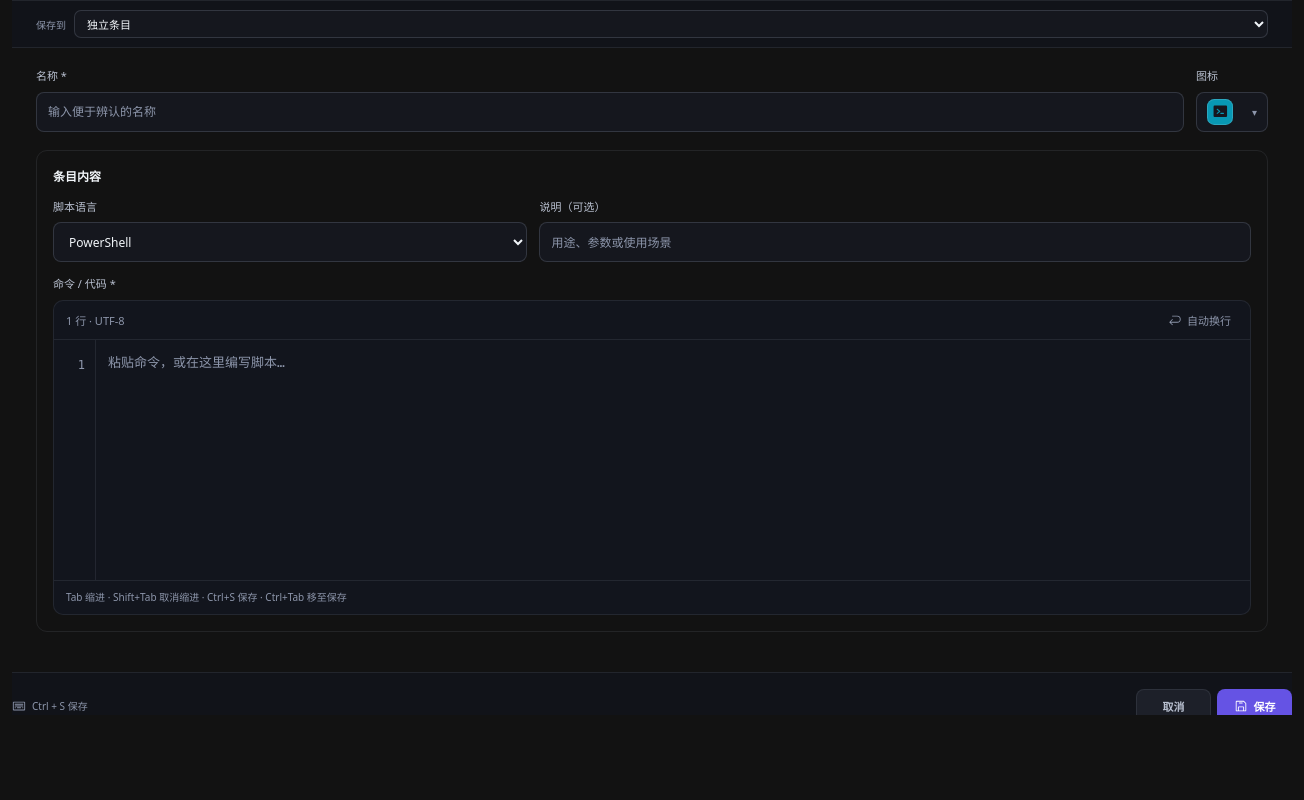
Test case: ItemForm validation › a missing target › shows every wrong field at once and puts the cursor in the first one
Click the button with test id "item-save": (1254,706) [1217, 688, 1292, 722]
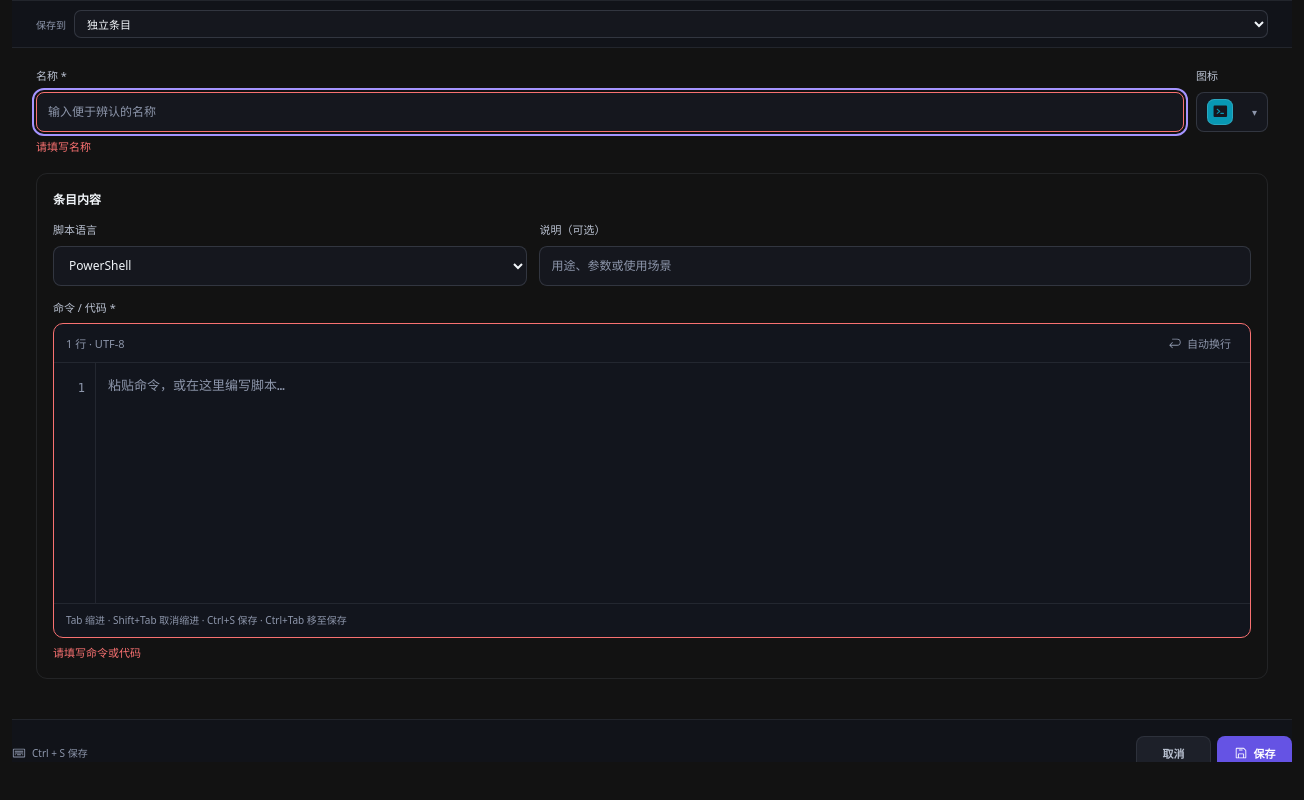
Now the number of messages is 2, box [36, 138, 91, 154]; [53, 645, 141, 660]
